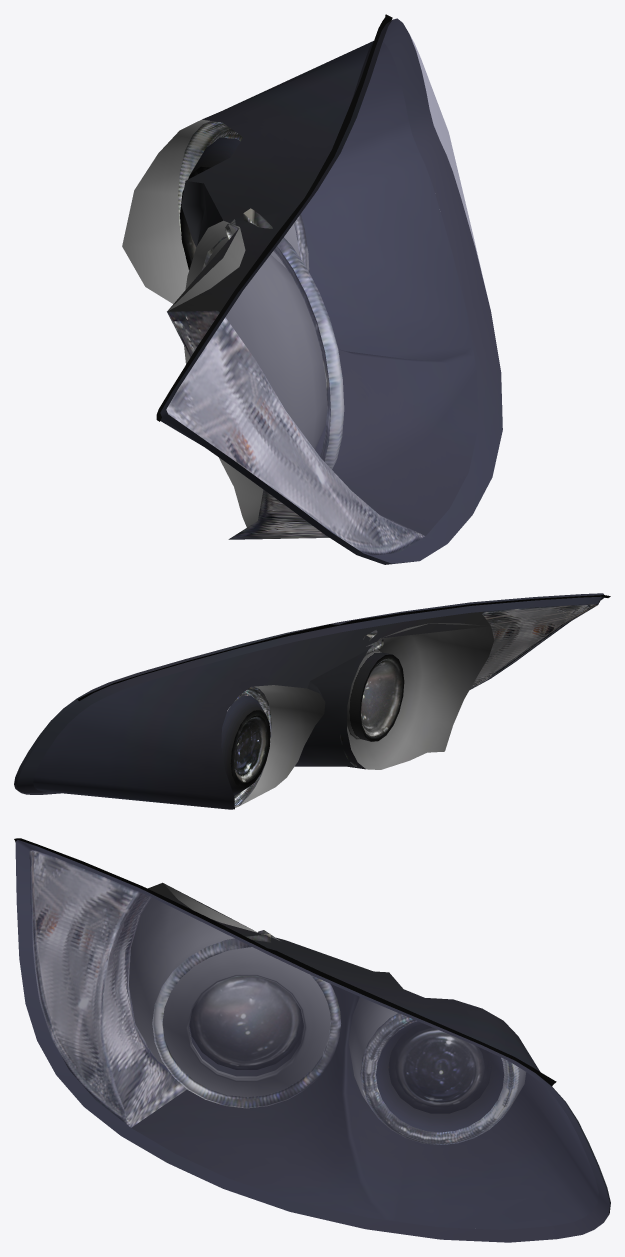
3 renders of one model, top to bottom at view 1: azimuth 30°, elevation 25°; view 2: azimuth 150°, elevation 25°; view 3: azimuth 270°, elevation 25°, orthographic. The views are drawn at different scales.
Parts seen in each view (by area): view 1: _4136_17_061B_R__4136_17_061B_R_2_D, _4136_17_061B_R__4136_17_061B_R_1_DTaSI, _4136_17_061B_R_3_D__4136_17_061B_R; view 2: _4136_17_061B_R__4136_17_061B_R_2_D, _4136_17_061B_R_3_D__4136_17_061B_R; view 3: _4136_17_061B_R__4136_17_061B_R_2_D, _4136_17_061B_R__4136_17_061B_R_1_DTaSI, _4136_17_061B_R_3_D__4136_17_061B_R.
Part boxes in pixels (<box>): _4136_17_061B_R__4136_17_061B_R_2_D: <box>122,18,502,564</box>; _4136_17_061B_R__4136_17_061B_R_1_DTaSI: <box>166,18,502,563</box>; _4136_17_061B_R_3_D__4136_17_061B_R: <box>156,14,392,421</box>; _4136_17_061B_R__4136_17_061B_R_2_D: <box>14,593,604,809</box>; _4136_17_061B_R_3_D__4136_17_061B_R: <box>77,595,610,700</box>; _4136_17_061B_R__4136_17_061B_R_2_D: <box>15,840,610,1242</box>; _4136_17_061B_R__4136_17_061B_R_1_DTaSI: <box>15,840,609,1242</box>; _4136_17_061B_R_3_D__4136_17_061B_R: <box>14,838,556,1086</box>.
Size of the model in its own units: 35.32 by 14.54 by 38.18.
